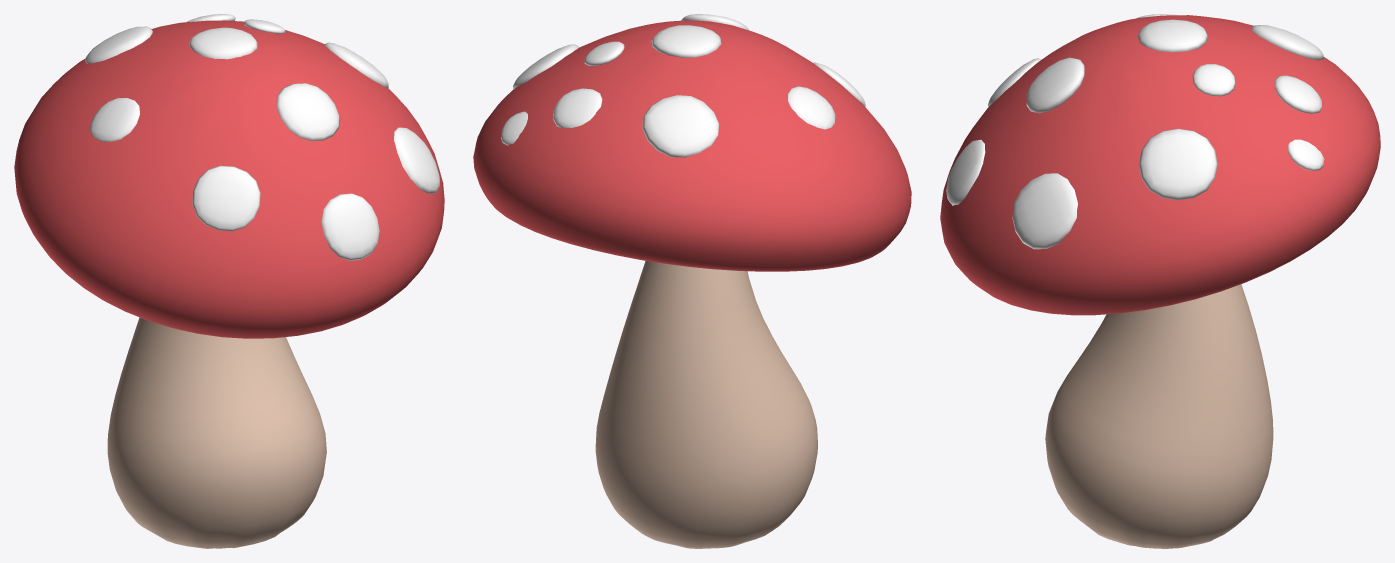
File: champi.fbx
The picture shows the model from 3 angles, left to right: view 1: azimuth 30°, elevation 25°; view 2: azimuth 150°, elevation 25°; view 3: azimuth 270°, elevation 25°; orthographic projection. The views are drawn at different scales.
Parts seen in each view (by area): view 1: Circle.001, Circle, Cube.007; view 2: Circle.001, Circle, Cube.007; view 3: Circle.001, Circle, Cube.007.
Part boxes in pixels (x1,y1,x2,y2): Circle.001: [14, 20, 444, 338]; Circle: [107, 317, 326, 548]; Cube.007: [85, 14, 439, 260]; Circle.001: [473, 20, 911, 271]; Circle: [595, 260, 817, 548]; Cube.007: [501, 14, 865, 157]; Circle.001: [940, 15, 1380, 315]; Circle: [1045, 284, 1273, 548]; Cube.007: [946, 14, 1324, 249].
Size of the model in its own units: 462 by 578 by 452.
